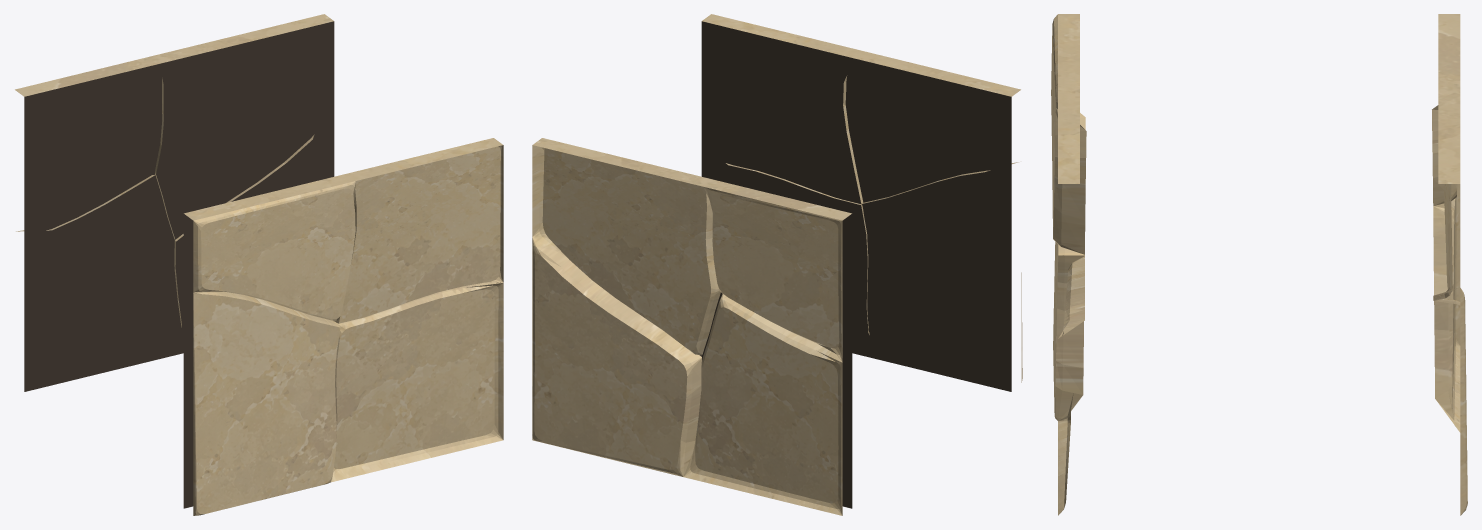
The model's file is ground_strip_04.glb.
The picture shows the model from 3 angles, left to right: view 1: azimuth 30°, elevation 25°; view 2: azimuth 150°, elevation 25°; view 3: azimuth 270°, elevation 25°; orthographic projection. The views are drawn at different scales.
Parts seen in each view (by area): view 1: GroundStrip04_Body; view 2: GroundStrip04_Body; view 3: GroundStrip04_Body.
Part boxes in pixels (box(x1,y1,x2,y2)): GroundStrip04_Body: box(15, 14, 503, 515); GroundStrip04_Body: box(532, 14, 1022, 515); GroundStrip04_Body: box(1051, 14, 1467, 515).
Bounding box in the file's own units: 1 × 0.91 × 1.04.
Materials: 10 (9 with a texture image).
